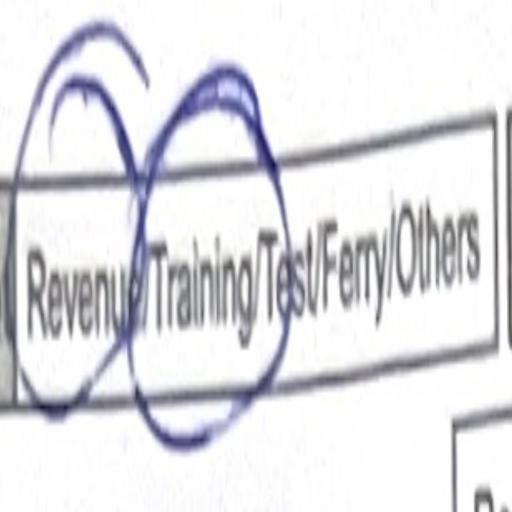check: (137, 42, 260, 469), (14, 116, 133, 466)
